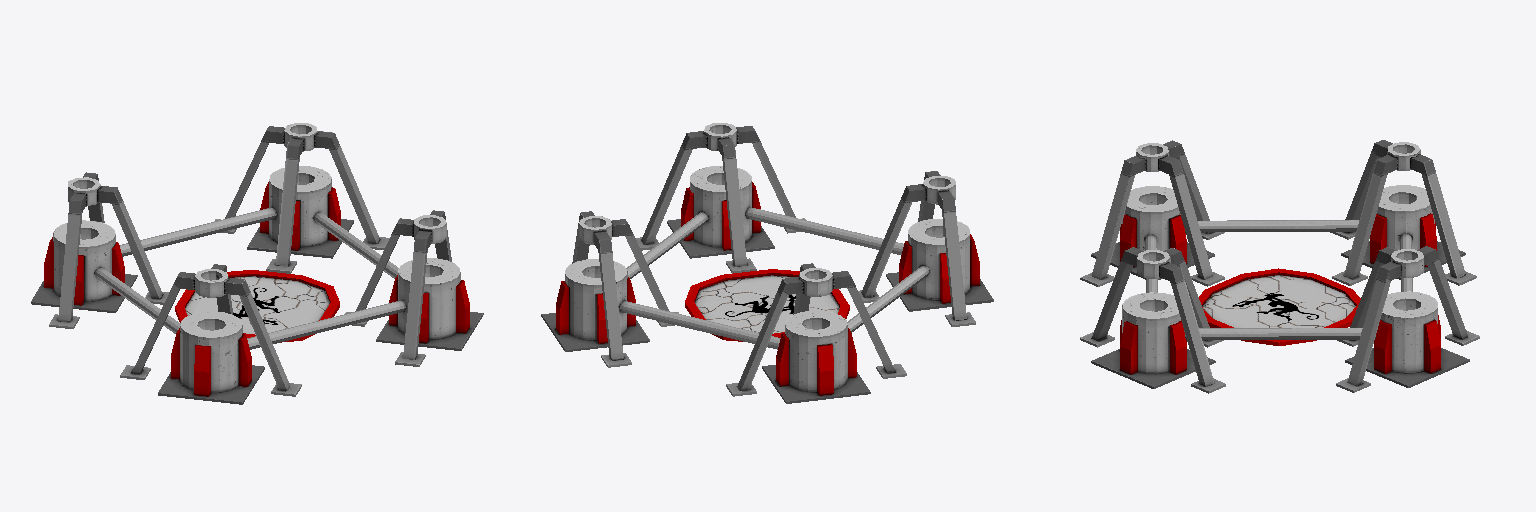
The picture shows the model from 3 angles: view 1: azimuth 30°, elevation 25°; view 2: azimuth 150°, elevation 25°; view 3: azimuth 270°, elevation 25°; orthographic projection.
Visible parts, largest first — view 1: Box031.001; view 2: Box031.001; view 3: Box031.001.
Boxes of the visible parts, x1,y1,x2,y2 form: Box031.001: [31, 123, 483, 404]; Box031.001: [541, 123, 993, 403]; Box031.001: [1080, 140, 1479, 393].
Bounding box in the file's own units: 73.65 × 21.63 × 73.81.
Materials: 1 (1 with a texture image).